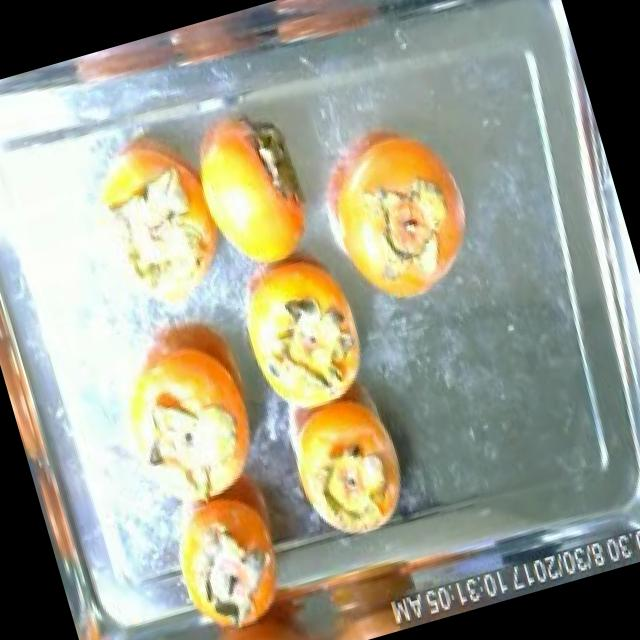Fruit: (301, 97, 498, 330), (257, 356, 433, 556)
